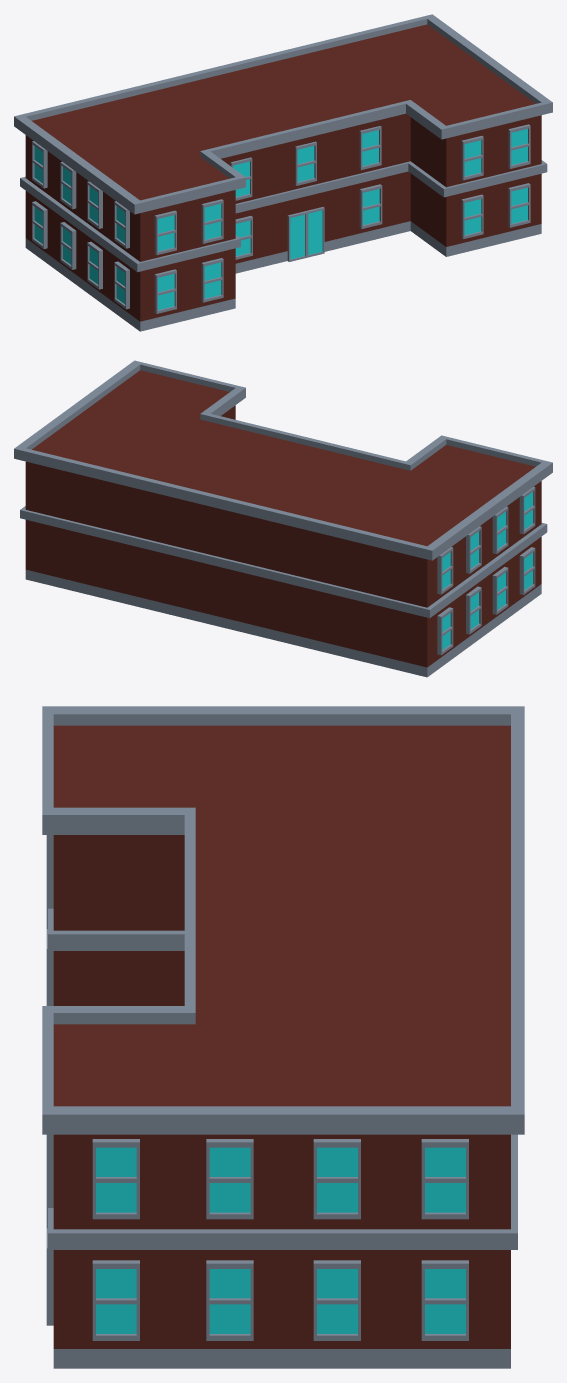
File: Building4_2.fbx
3 views of the same model, one above another, from view 1: azimuth 30°, elevation 25°; view 2: azimuth 150°, elevation 25°; view 3: azimuth 270°, elevation 25° (orthographic). The views are drawn at different scales.
Parts seen in each view (by area): view 1: Building4_2; view 2: Building4_2; view 3: Building4_2.
Part boxes in pixels (x1,y1,x2,y2): Building4_2: (14,14,552,331); Building4_2: (14,360,552,677); Building4_2: (42,706,524,1368).
Bounding box in the file's own units: 4523 × 1356 × 2257.
